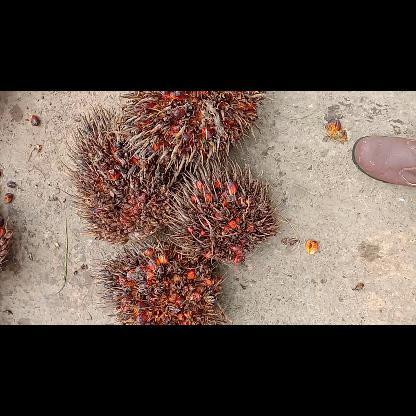Terlalu masak: (60, 100, 184, 244), (86, 228, 232, 324), (112, 91, 270, 175), (165, 160, 283, 270)
